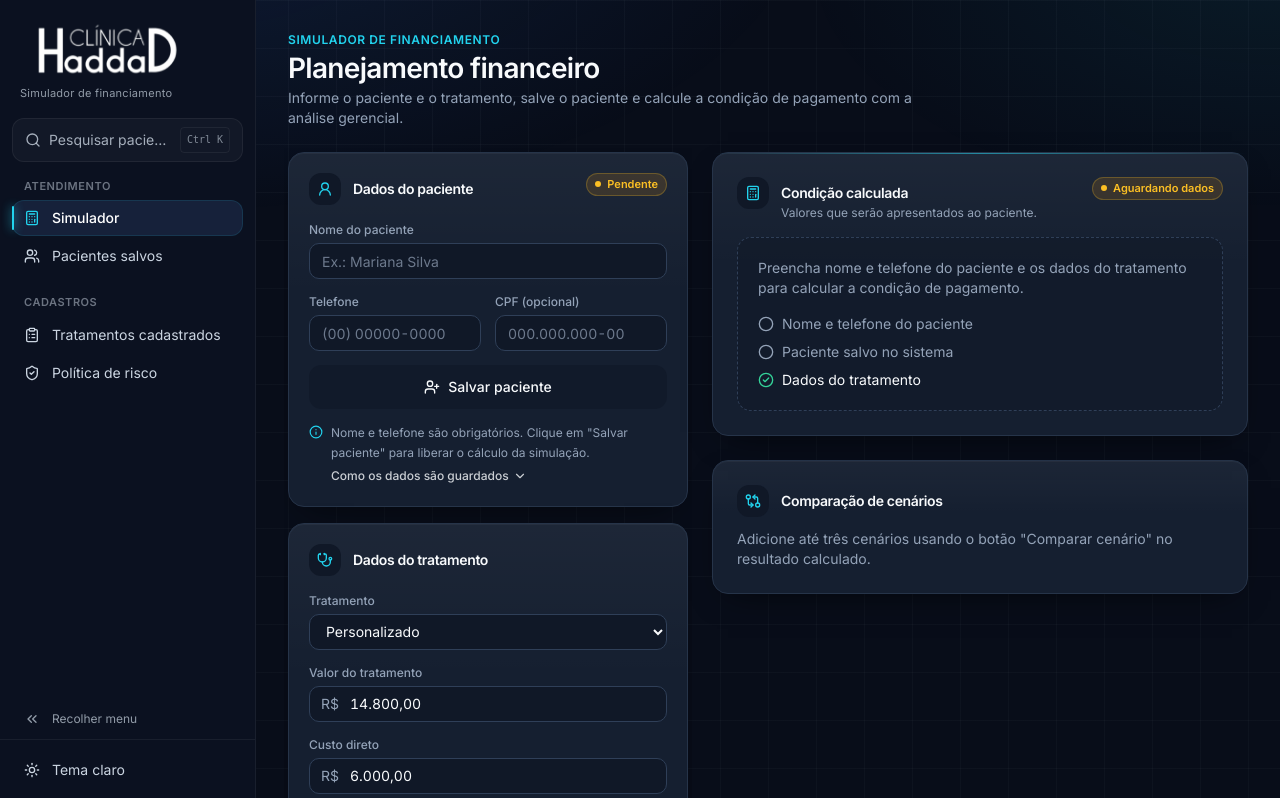
it: layout — menu lateral, tema e navegação › navega para os pacientes salvos pelo menu e volta ao simulador
Click the button "Pacientes salvos" at (128, 256), box [12,238,243,274]
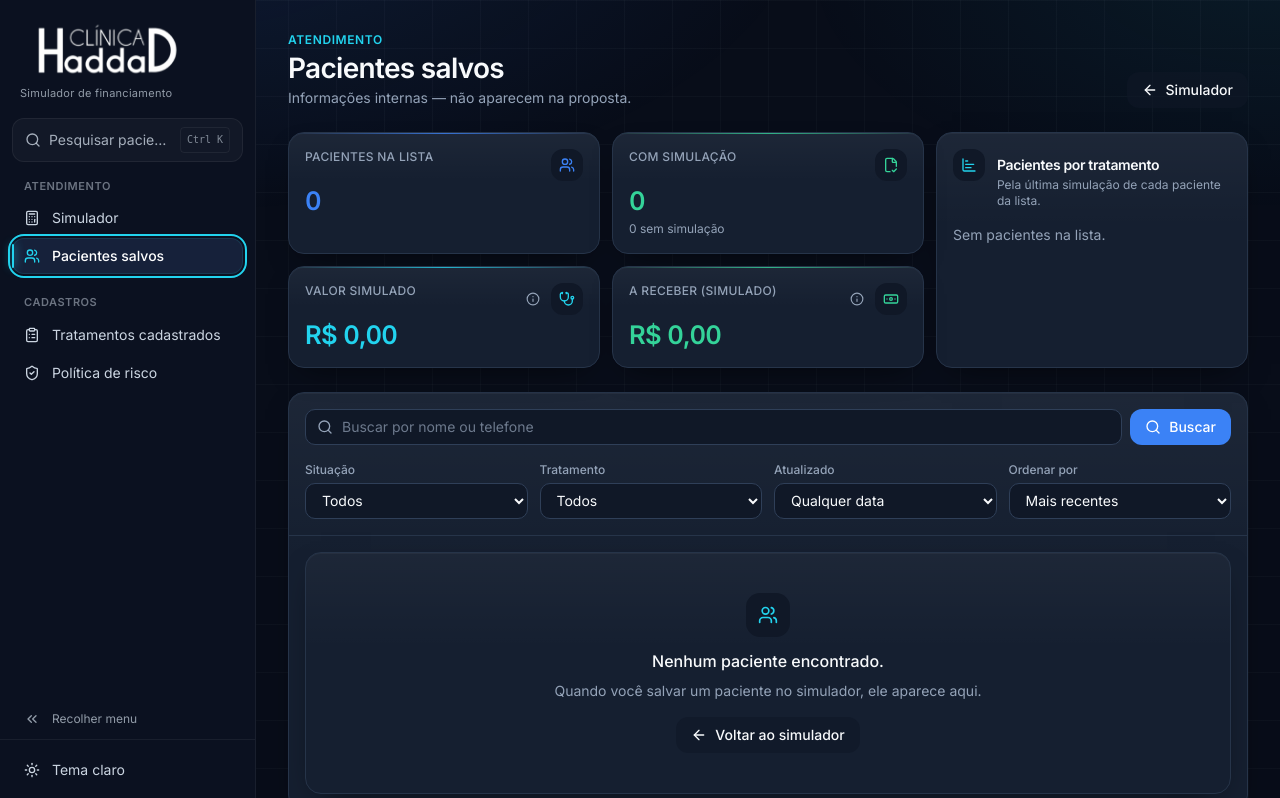
Now the heading "Pacientes salvos" is shown, box [288,51,504,85]
Click the button "Simulador" below "Simulador de financiamento" at (128, 218), box [12,200,243,236]
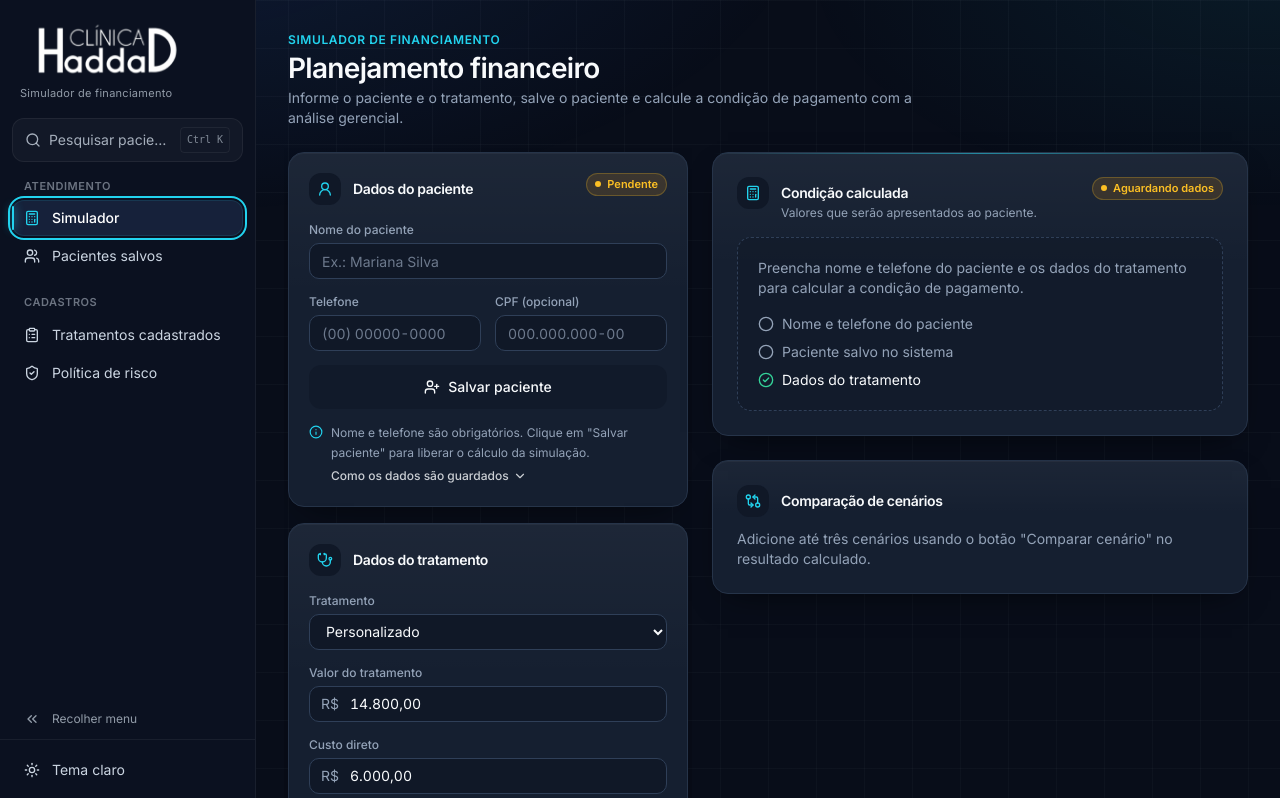
Now the heading "Planejamento financeiro" is shown, box [288,51,600,85]
